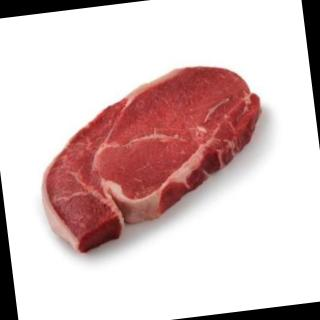Daging Sapi: (28, 57, 277, 258)
